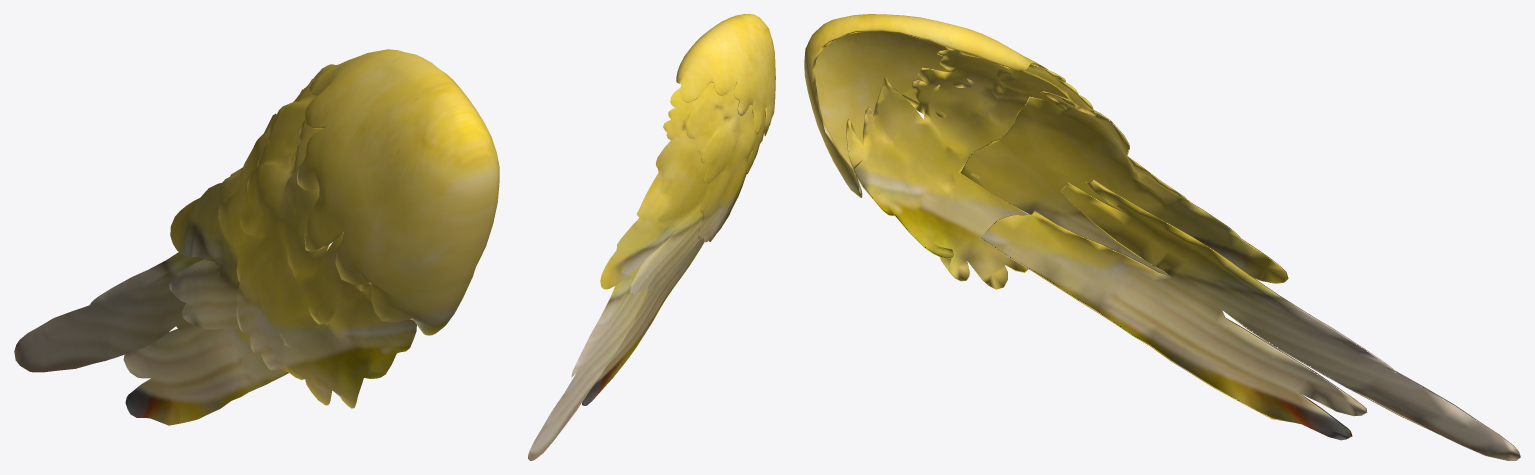
File: hinge_wing_R.fbx
3 renders of one model, left to right at view 1: azimuth 30°, elevation 25°; view 2: azimuth 150°, elevation 25°; view 3: azimuth 270°, elevation 25°, orthographic. The views are drawn at different scales.
Visible parts, largest first — view 1: Love_wings_R; view 2: Love_wings_R; view 3: Love_wings_R.
Part boxes in pixels (x1,y1,x2,y2): Love_wings_R: (14,49,499,425); Love_wings_R: (528,14,775,460); Love_wings_R: (804,14,1520,460).
Bounding box in the file's own units: 46.76 × 210 × 304.
Materials: 1 (1 with a texture image).
